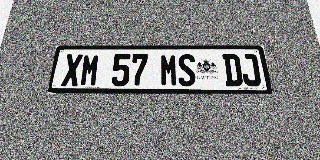5: (111, 54, 131, 86)
7: (130, 54, 148, 86)
D: (222, 54, 243, 86)
J: (240, 54, 262, 86)
M: (79, 54, 100, 86), (160, 54, 178, 86)
S: (178, 54, 196, 86)
X: (61, 54, 83, 86)
